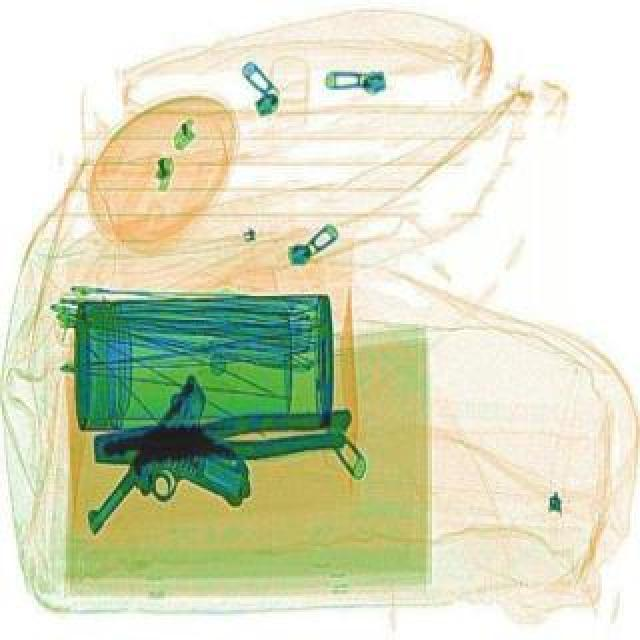gun: (74, 374, 290, 590)
wrench: (90, 412, 354, 478)
